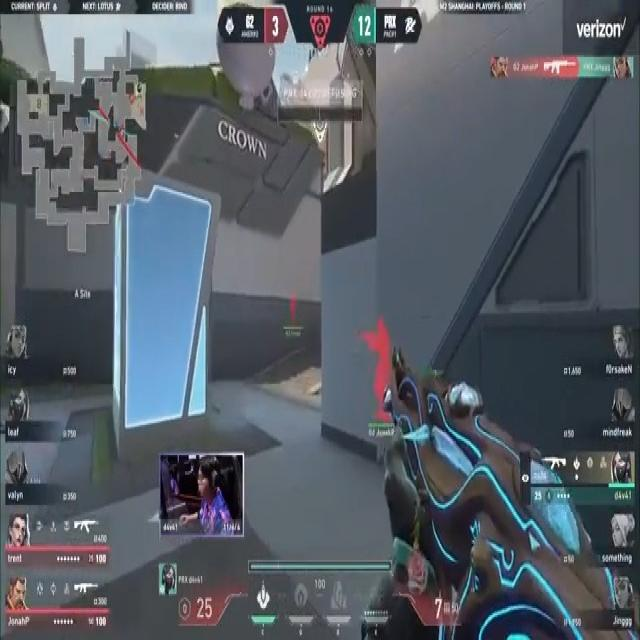enemy behind wall: (356, 313, 394, 416)
